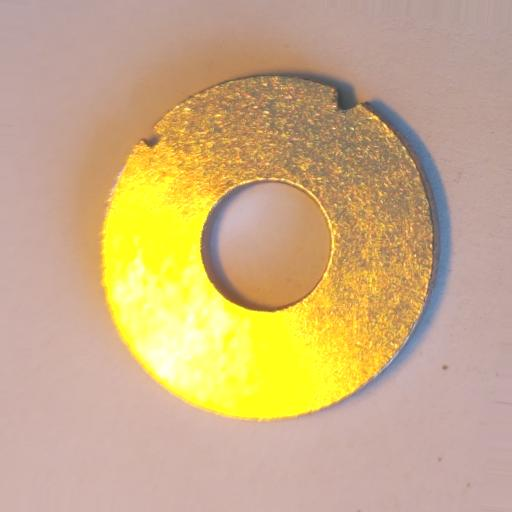burr: (332, 84, 364, 113), (140, 127, 164, 149)
